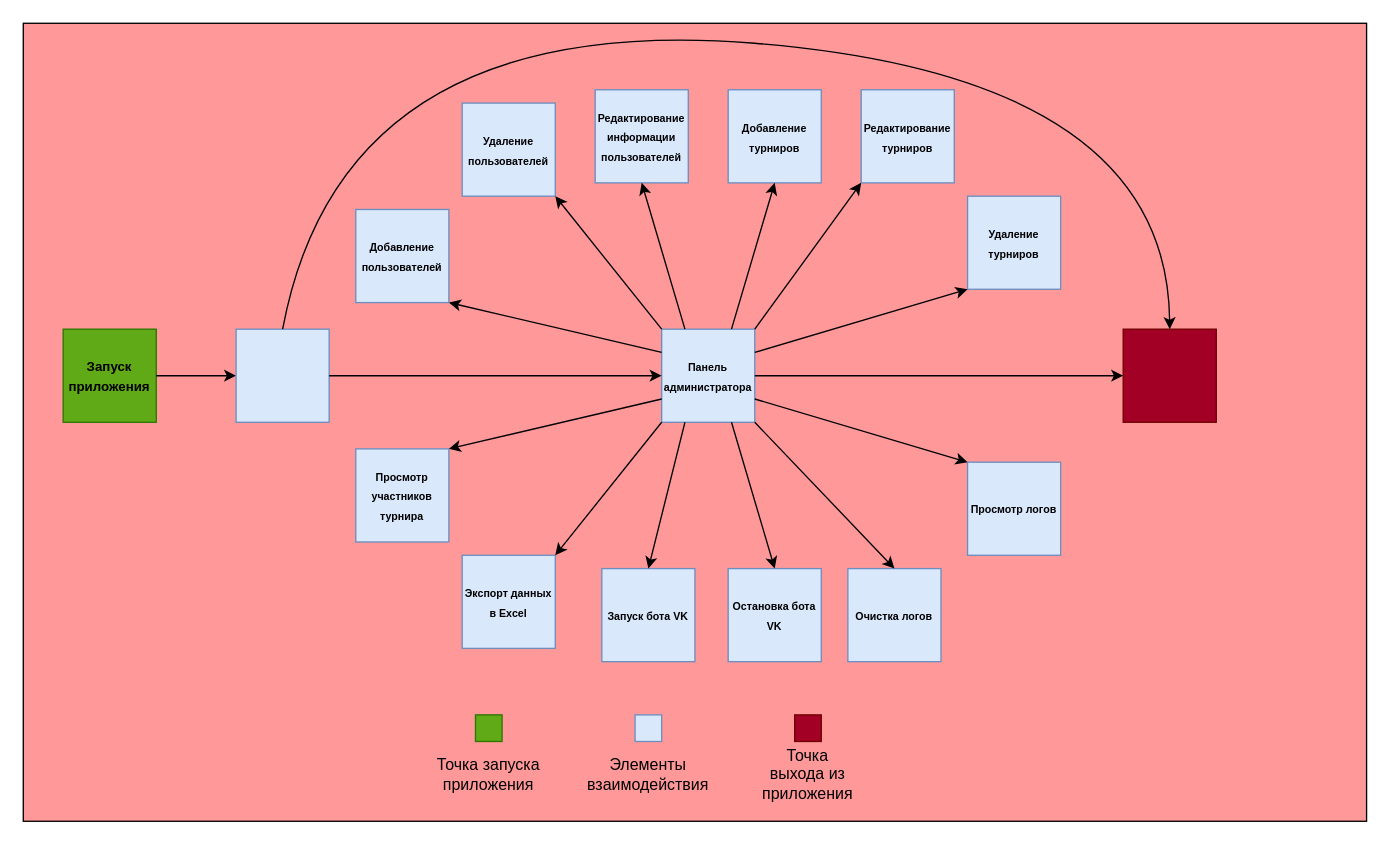
Some shapes in this 1390 by 845 pixel diagram are drawn without their labels. The shapes that lost their labels are listed below. From the top down, each one's centre as x and y in pixels, then its label:
At point 282,375: "Авторизация".
At point 1169,375: "Выход из приложения".
